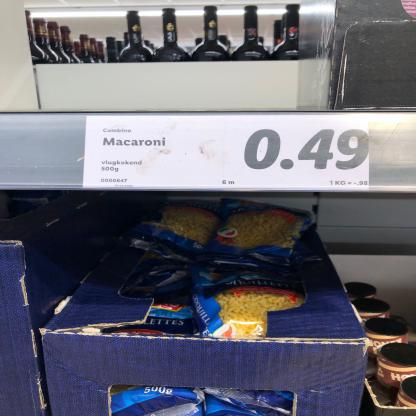prtg: (84, 115, 371, 190)
